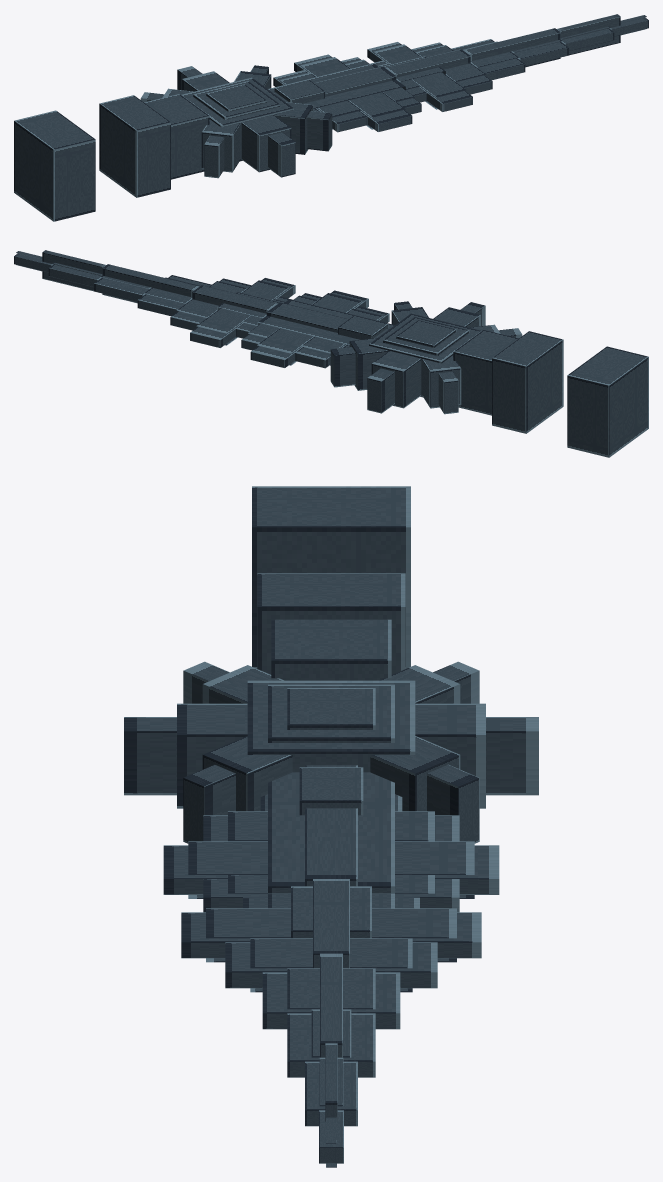
Rendered from bench_spear_2.obj.
3 views of the same model, one above another, from view 1: azimuth 30°, elevation 25°; view 2: azimuth 150°, elevation 25°; view 3: azimuth 270°, elevation 25° (orthographic). The views are drawn at different scales.
Visible parts, largest first — view 1: geometry; view 2: geometry; view 3: geometry.
Part boxes in pixels (x1=…): geometry: x1=14, y1=14, x2=648, y2=221; geometry: x1=14, y1=250, x2=648, y2=457; geometry: x1=124, y1=486, x2=538, y2=1167.
Size of the model in its own units: 0.75 by 0.0844 by 0.2203.
